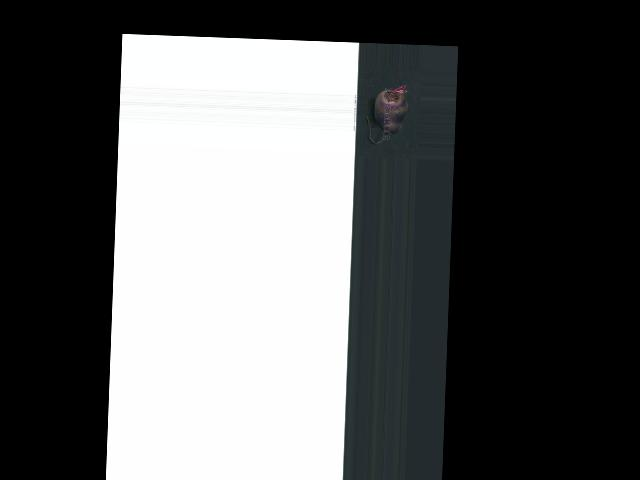beet: (365, 81, 408, 144)
